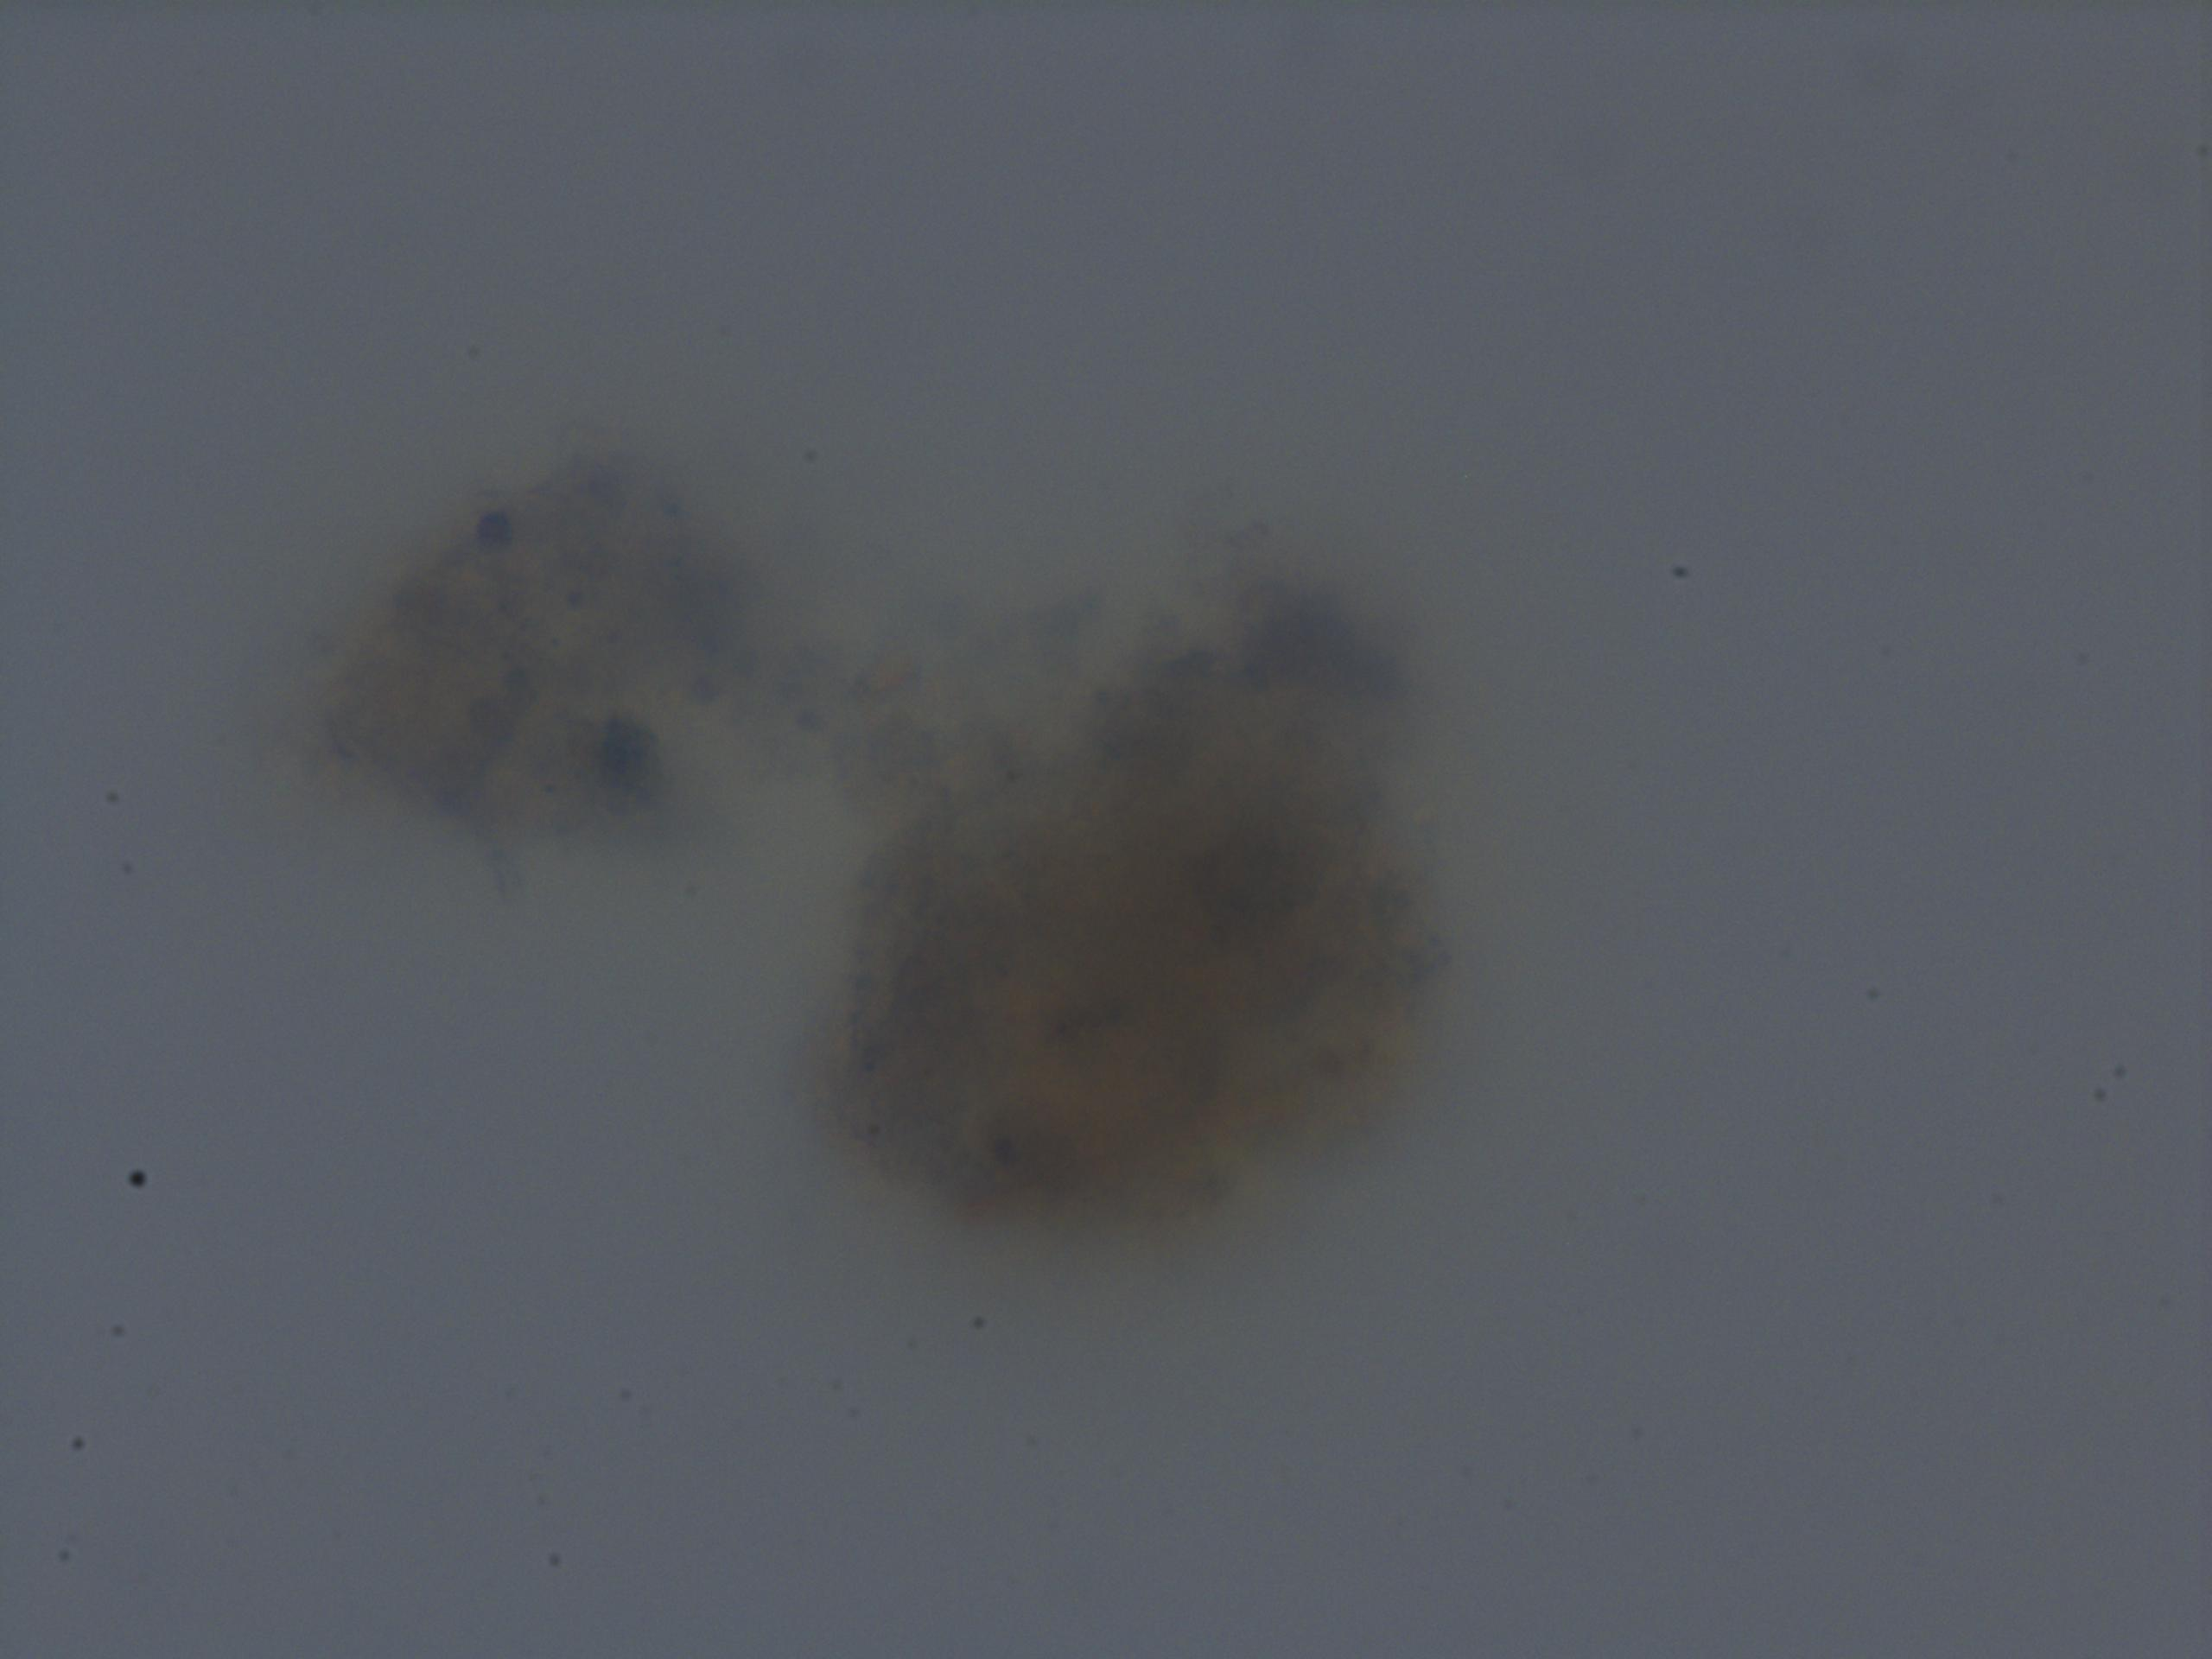spherical_floc: (815, 554, 1461, 1255)
